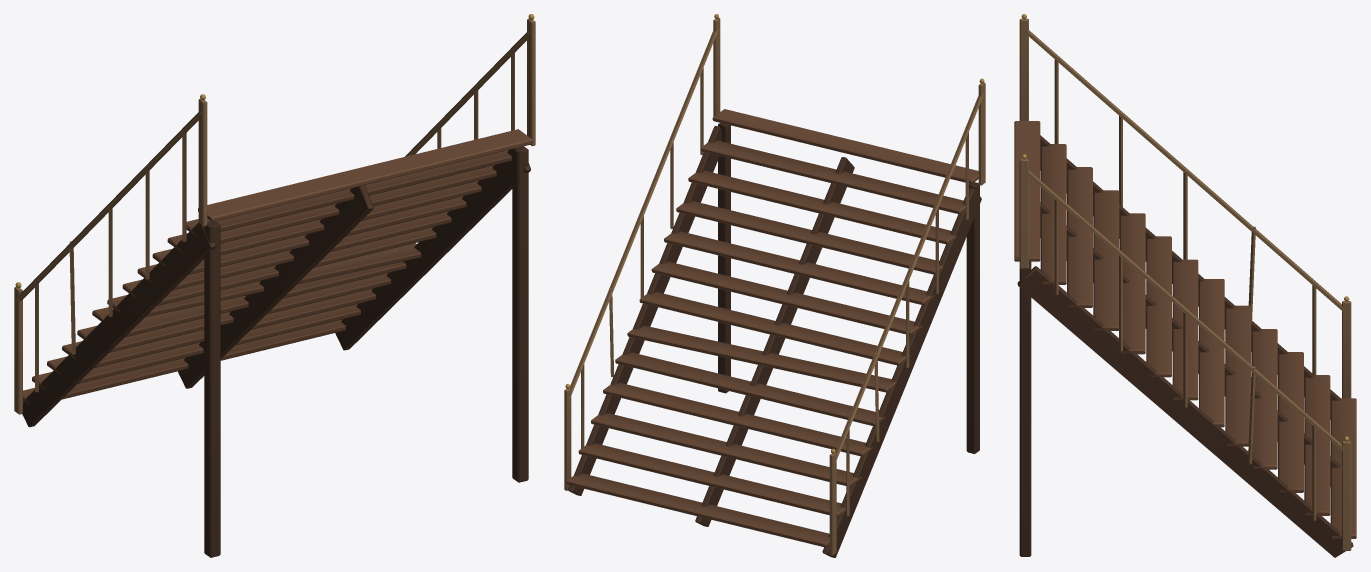
Rendered from qb_grandstairs_wood.glb.
3 renders of one model, left to right at view 1: azimuth 30°, elevation 25°; view 2: azimuth 150°, elevation 25°; view 3: azimuth 270°, elevation 25°, orthographic. The views are drawn at different scales.
Parts seen in each view (by area): view 1: qb_grandstairs_wood; view 2: qb_grandstairs_wood; view 3: qb_grandstairs_wood.
Part boxes in pixels (bbox=[...]): qb_grandstairs_wood: bbox=[14, 14, 535, 557]; qb_grandstairs_wood: bbox=[564, 14, 985, 557]; qb_grandstairs_wood: bbox=[1014, 14, 1356, 557].
Bounding box in the file's own units: 2.95 × 3.91 × 3.
